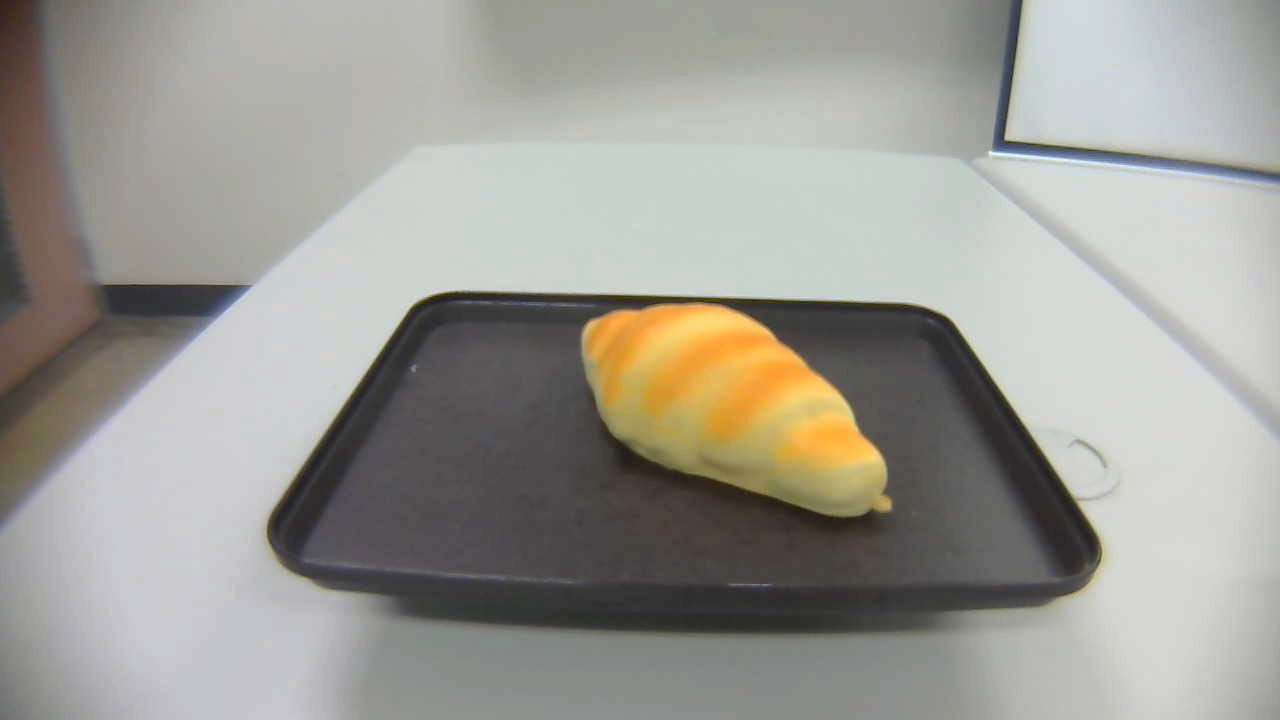croissant: (580, 302, 894, 523)
